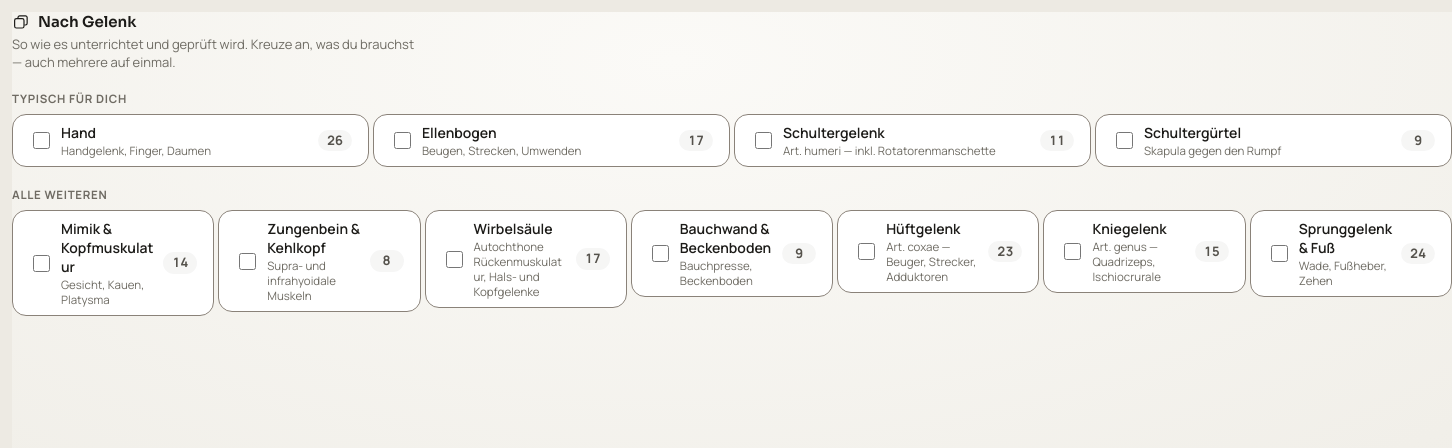
JointGroupPicker › „Auswahl aufheben" ist der Rückweg VOR dem Anlegen
Click the checkbox labelled "Hand Handgelenk, Finger, Daumen 26".
click(42, 140)  # box [33,132,50,149]
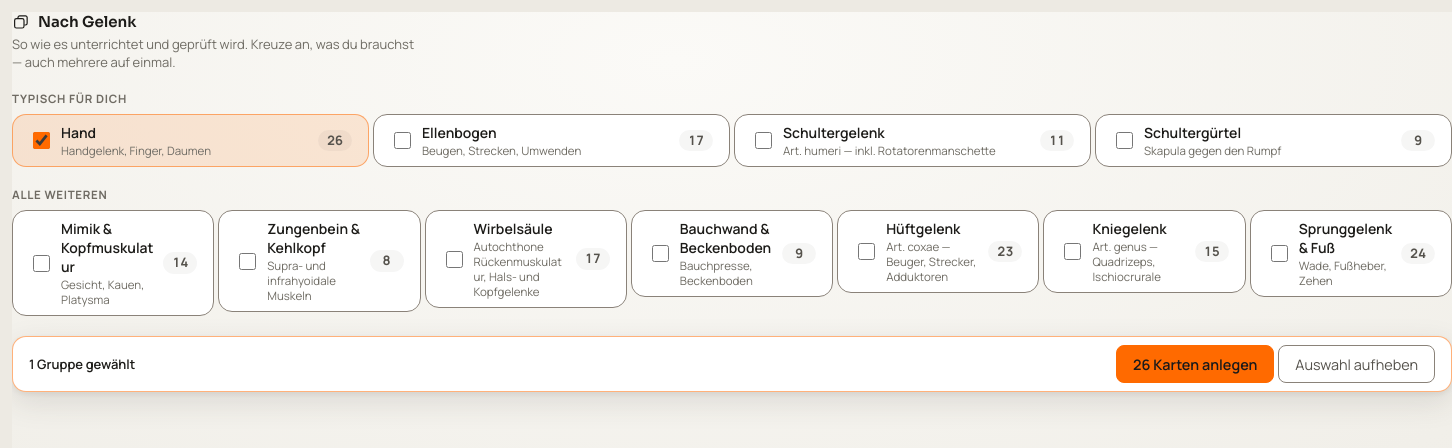
Click the checkbox labelled "Ellenbogen Beugen, Strecken, Umwenden 17".
click(402, 140)  # box [394,132,411,149]
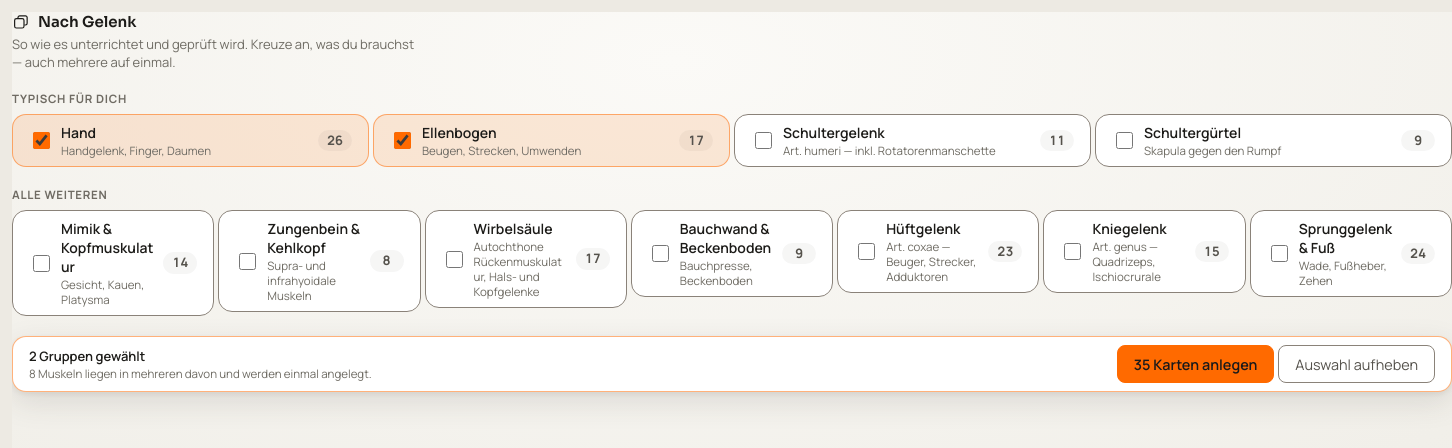
Click the button "Auswahl aufheben".
click(1357, 364)  # box [1278,345,1435,383]
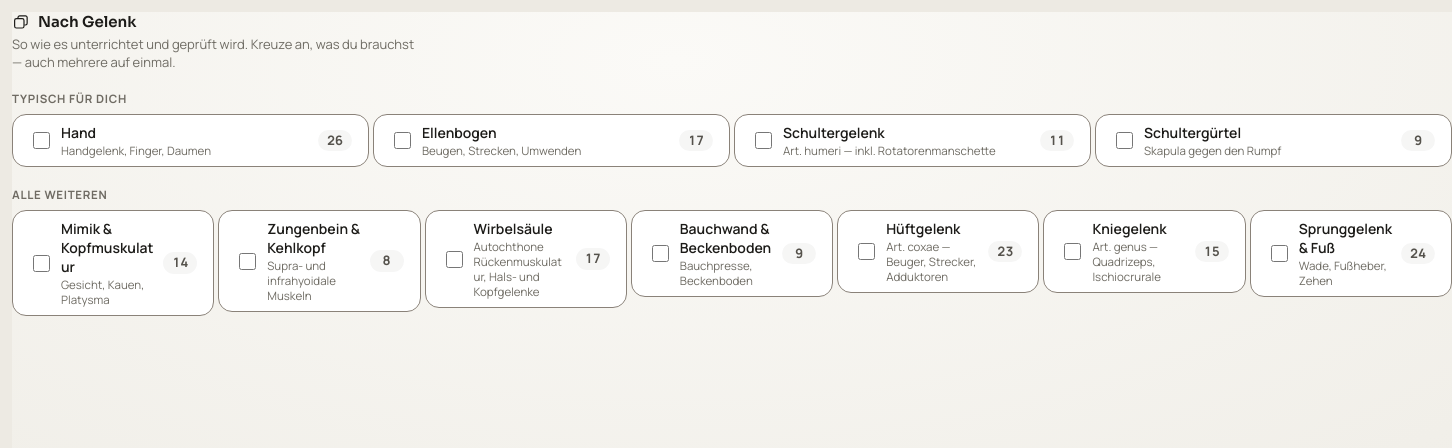
Now the checkbox labelled "Hand Handgelenk, Finger, Daumen 26" is not checked, box [33,132,50,149]
Now the button "anlegen" is gone
